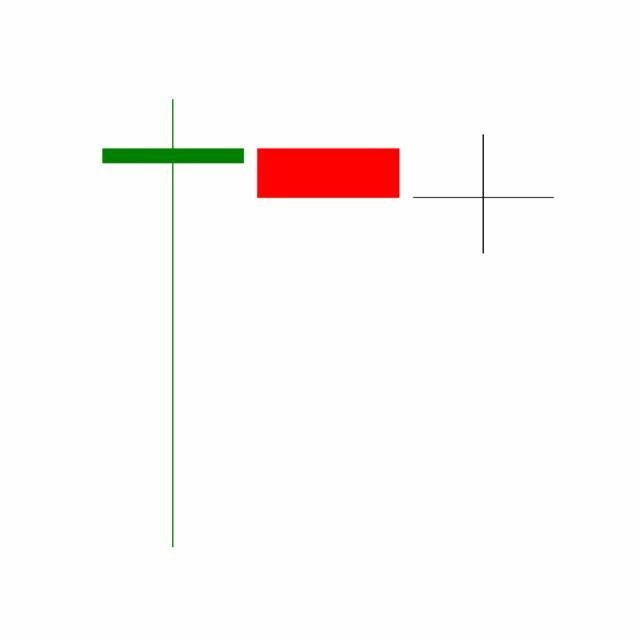Spinning Top: (406, 134, 562, 257)
